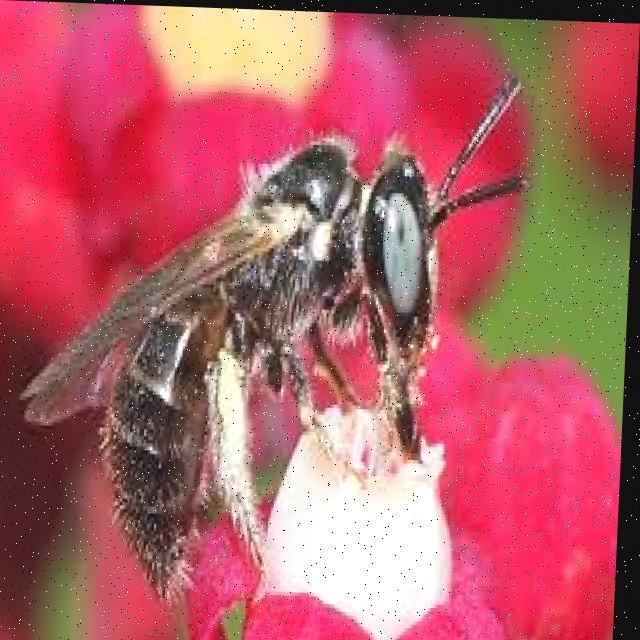Braunsapis: (31, 48, 545, 614)
